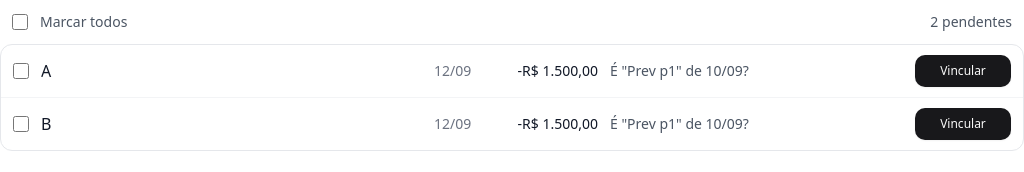
Scenario: ListaConciliar — gravar › previsão vinculada some das candidatas das outras linhas
Click the 1st button "Vincular" at point(963, 71), box top-left (915, 55), bottom-right (1011, 87)
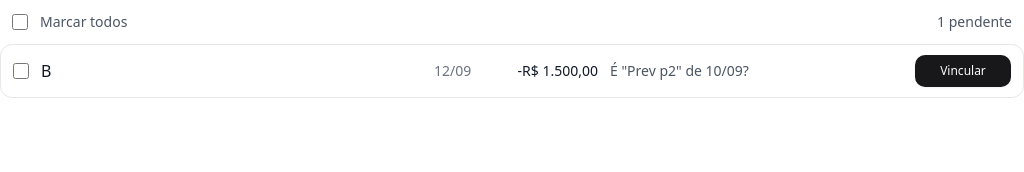
Check: the text "É \"Prev p2\" de 10/09?" is shown, box top-left (610, 61), bottom-right (749, 80)
